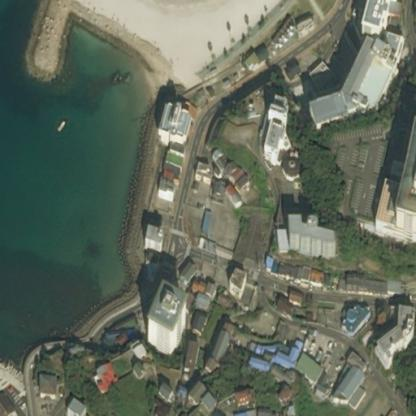ship: (39, 120, 48, 132)
